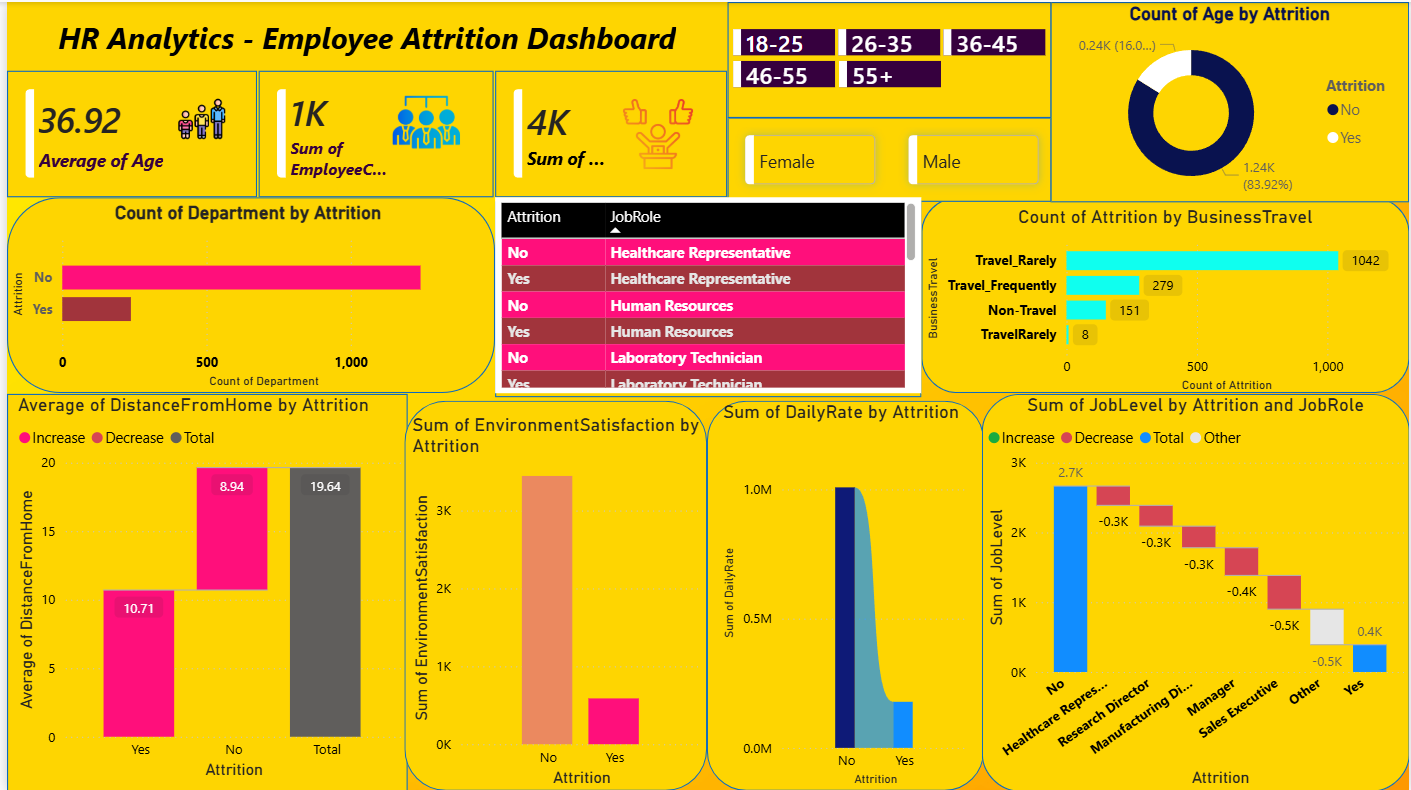

The dashboard page shown, as its layout file describes it:
{"tool":"powerbi","page":{"name":"Employee attrition dashboard","canvas":[1280,720],"ordinal":1},"visuals":[{"type":"shape","box":[834.8,178.8,445.6,178.8],"z":0},{"type":"shape","box":[953.1,0,327.3,182.9],"z":1000},{"type":"shape","box":[657.4,105.9,295.7,77],"z":2000},{"type":"shape","box":[657.4,0,295.7,105.9],"z":3000},{"type":"donutChart","fields":{"Category":["HR_Analytics.Attrition"],"Y":["CountNonNull(HR_Analytics.Age)"]},"box":[953.1,0,327.3,182.9],"z":4000},{"type":"shape","box":[0,0,657.4,63.3],"z":5000},{"type":"shape","box":[0,63.3,228.3,115.5],"z":6000},{"type":"shape","box":[229.7,63.3,214.5,115.5],"z":7000},{"type":"shape","box":[445.6,63.3,211.8,115.5],"z":8000},{"type":"cardVisual","fields":{"Data":["Avg(HR_Analytics.Age)"]},"box":[0,63.3,228.3,115.5],"z":9000},{"type":"cardVisual","fields":{"Rows":["HR_Analytics.AgeGroup"]},"box":[657.4,0,295.7,105.9],"z":10000},{"type":"cardVisual","fields":{"Data":["Sum(HR_Analytics.EmployeeCount)"]},"box":[229.7,63.3,213.2,115.5],"z":11000},{"type":"cardVisual","fields":{"Data":["Sum(HR_Analytics.EnvironmentSatisfaction)"]},"box":[445.6,63.3,211.8,115.5],"z":12000},{"type":"shape","box":[0,178.8,445.6,178.8],"z":13000},{"type":"advancedSlicerVisual","fields":{"Values":["HR_Analytics.Gender"]},"box":[657.4,105.9,301.2,77],"z":14000},{"type":"clusteredBarChart","fields":{"Category":["HR_Analytics.Attrition"],"Y":["CountNonNull(HR_Analytics.Department)"]},"box":[0,181.5,440.1,174.7],"z":15000},{"type":"shape","box":[445.6,181.5,389.2,178.8],"z":16000},{"type":"shape","box":[639.5,364.4,253.1,356.2],"z":17000},{"type":"shape","box":[889.8,357.6,390.6,363.1],"z":18000},{"type":"shape","box":[0,357.6,365.8,363.1],"z":19000},{"type":"clusteredBarChart","fields":{"Category":["HR_Analytics.BusinessTravel"],"Y":["CountNonNull(HR_Analytics.Attrition)"]},"box":[834.8,185.7,445.6,174.7],"z":20000},{"type":"tableEx","fields":{"Values":["HR_Analytics.Attrition","HR_Analytics.JobRole"]},"box":[445.6,178.8,389.2,178.8],"z":21000},{"type":"waterfallChart","fields":{"Category":["HR_Analytics.Attrition"],"Y":["Avg(HR_Analytics.DistanceFromHome)"]},"box":[5.5,357.6,360.3,356.2],"z":22000},{"type":"shape","box":[363.1,364.4,276.4,356.2],"z":23000},{"type":"clusteredColumnChart","fields":{"Category":["HR_Analytics.Attrition"],"Y":["Sum(HR_Analytics.EnvironmentSatisfaction)"]},"box":[365.8,375.5,273.7,345.2],"z":24000},{"type":"ribbonChart","fields":{"Category":["HR_Analytics.Attrition"],"Y":["Sum(HR_Analytics.DailyRate)"]},"box":[649.1,364.4,233.8,356.2],"z":25000},{"type":"waterfallChart","fields":{"Category":["HR_Analytics.Attrition"],"Y":["Sum(HR_Analytics.JobLevel)"],"Breakdown":["HR_Analytics.JobRole"]},"box":[889.8,357.6,390.6,363.1],"z":26000}]}

Visuals, with their boxes in screenshot pixels (x1, y1, x2, y2), scaled from the page's 1280x720 canvas onto the 1411x790 screenshot:
shape: rect(920, 196, 1410, 392)
shape: rect(1051, 0, 1410, 201)
shape: rect(725, 116, 1051, 201)
shape: rect(725, 0, 1051, 116)
donutChart - HR_Analytics.Attrition x CountNonNull(HR_Analytics.Age): rect(1051, 0, 1410, 201)
shape: rect(0, 0, 725, 69)
shape: rect(0, 69, 252, 196)
shape: rect(253, 69, 490, 196)
shape: rect(491, 69, 725, 196)
cardVisual - Avg(HR_Analytics.Age): rect(0, 69, 252, 196)
cardVisual - HR_Analytics.AgeGroup: rect(725, 0, 1051, 116)
cardVisual - Sum(HR_Analytics.EmployeeCount): rect(253, 69, 488, 196)
cardVisual - Sum(HR_Analytics.EnvironmentSatisfaction): rect(491, 69, 725, 196)
shape: rect(0, 196, 491, 392)
advancedSlicerVisual - HR_Analytics.Gender: rect(725, 116, 1057, 201)
clusteredBarChart - HR_Analytics.Attrition x CountNonNull(HR_Analytics.Department): rect(0, 199, 485, 391)
shape: rect(491, 199, 920, 395)
shape: rect(705, 400, 984, 789)
shape: rect(981, 392, 1410, 789)
shape: rect(0, 392, 403, 789)
clusteredBarChart - HR_Analytics.BusinessTravel x CountNonNull(HR_Analytics.Attrition): rect(920, 204, 1410, 395)
tableEx - HR_Analytics.Attrition x HR_Analytics.JobRole: rect(491, 196, 920, 392)
waterfallChart - HR_Analytics.Attrition x Avg(HR_Analytics.DistanceFromHome): rect(6, 392, 403, 783)
shape: rect(400, 400, 705, 789)
clusteredColumnChart - HR_Analytics.Attrition x Sum(HR_Analytics.EnvironmentSatisfaction): rect(403, 412, 705, 789)
ribbonChart - HR_Analytics.Attrition x Sum(HR_Analytics.DailyRate): rect(716, 400, 973, 789)
waterfallChart - HR_Analytics.Attrition x Sum(HR_Analytics.JobLevel): rect(981, 392, 1410, 789)
